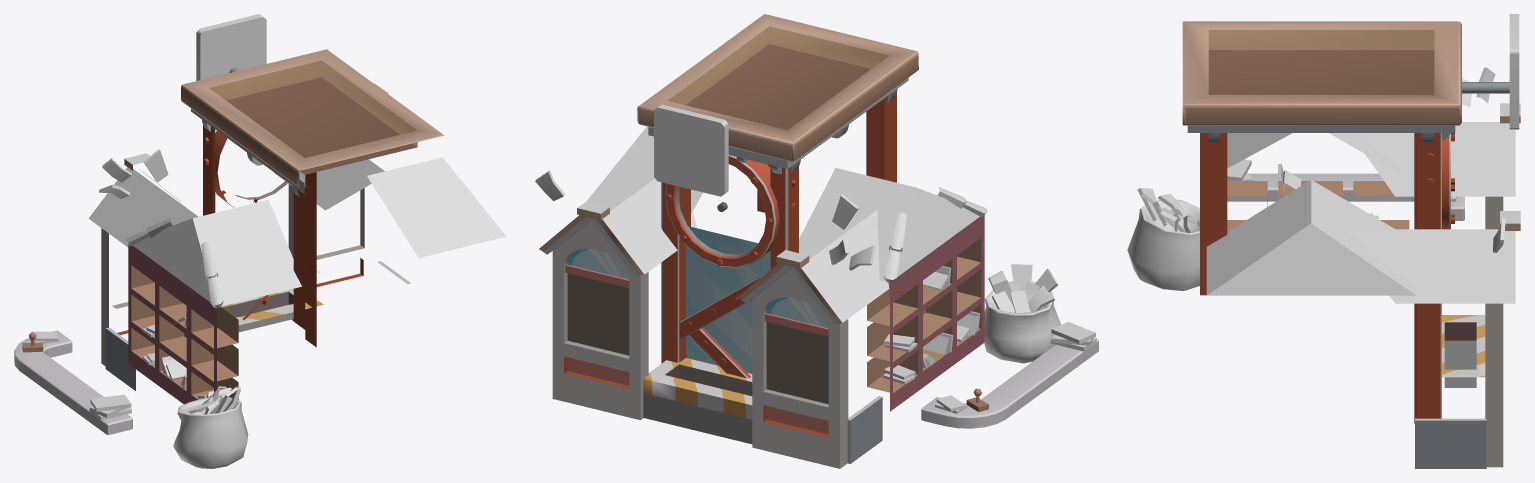
Rendered from CrateCoBuilding.glb.
The picture shows the model from 3 angles, left to right: view 1: azimuth 30°, elevation 25°; view 2: azimuth 150°, elevation 25°; view 3: azimuth 270°, elevation 25°; orthographic projection. The views are drawn at different scales.
Parts seen in each view (by area): view 1: CrateCoBuilding; view 2: CrateCoBuilding; view 3: CrateCoBuilding.
Boxes of the visible parts, bbox=[...] form: CrateCoBuilding: bbox=[14, 14, 506, 468]; CrateCoBuilding: bbox=[535, 14, 1098, 468]; CrateCoBuilding: bbox=[1127, 14, 1520, 468].
Size of the model in its own units: 6.18 by 4.39 by 4.36.
